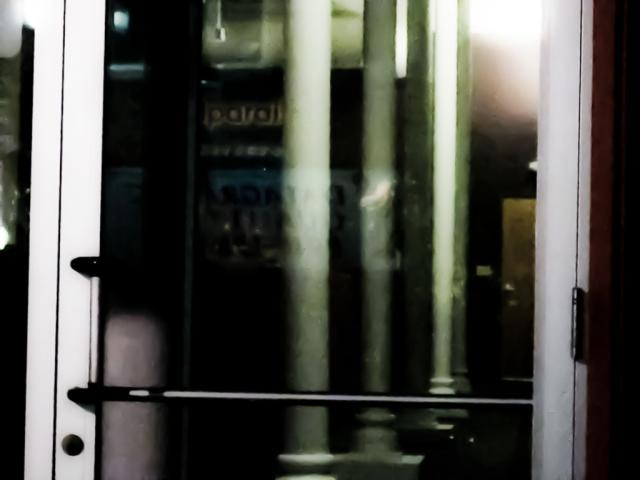Door-handle: (66, 376, 540, 410)
